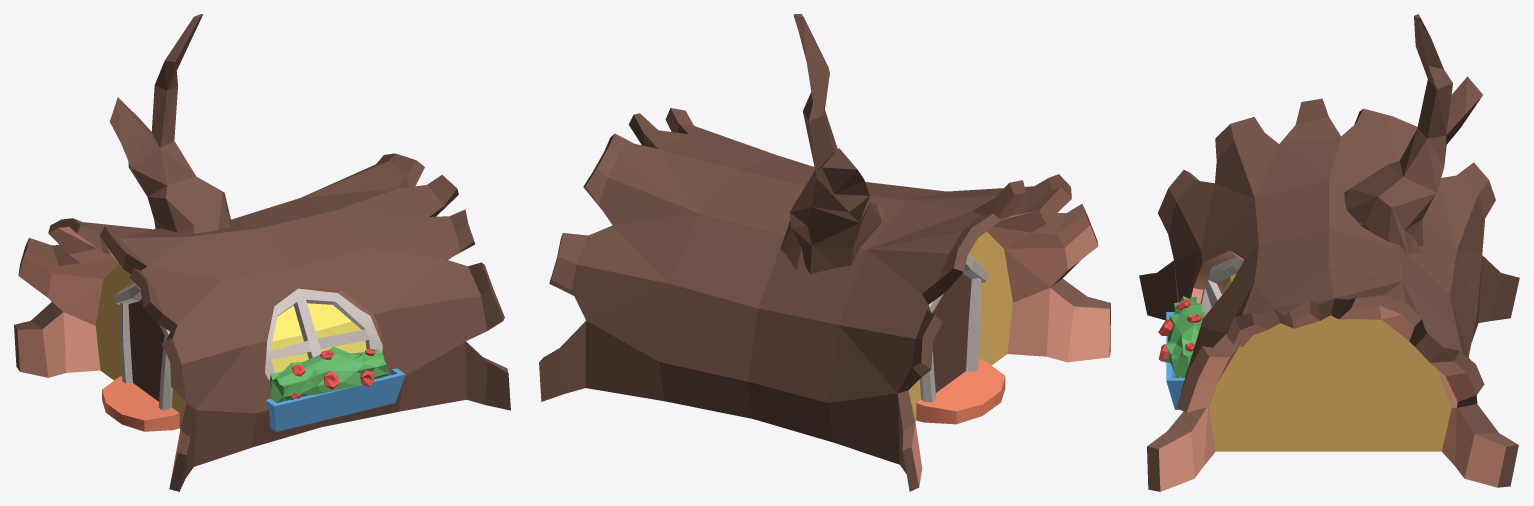
File: building_008.fbx
3 views of the same model, side by side, from view 1: azimuth 30°, elevation 25°; view 2: azimuth 150°, elevation 25°; view 3: azimuth 270°, elevation 25° (orthographic). The views are drawn at different scales.
Visible parts, largest first — view 1: building.008; view 2: building.008; view 3: building.008.
Boxes of the visible parts, x1,y1,x2,y2 form: building.008: (14, 14, 510, 491); building.008: (539, 14, 1110, 491); building.008: (1139, 14, 1519, 491).
Bounding box in the file's own units: 975 × 925 × 850.
1 material, 1 textured.
